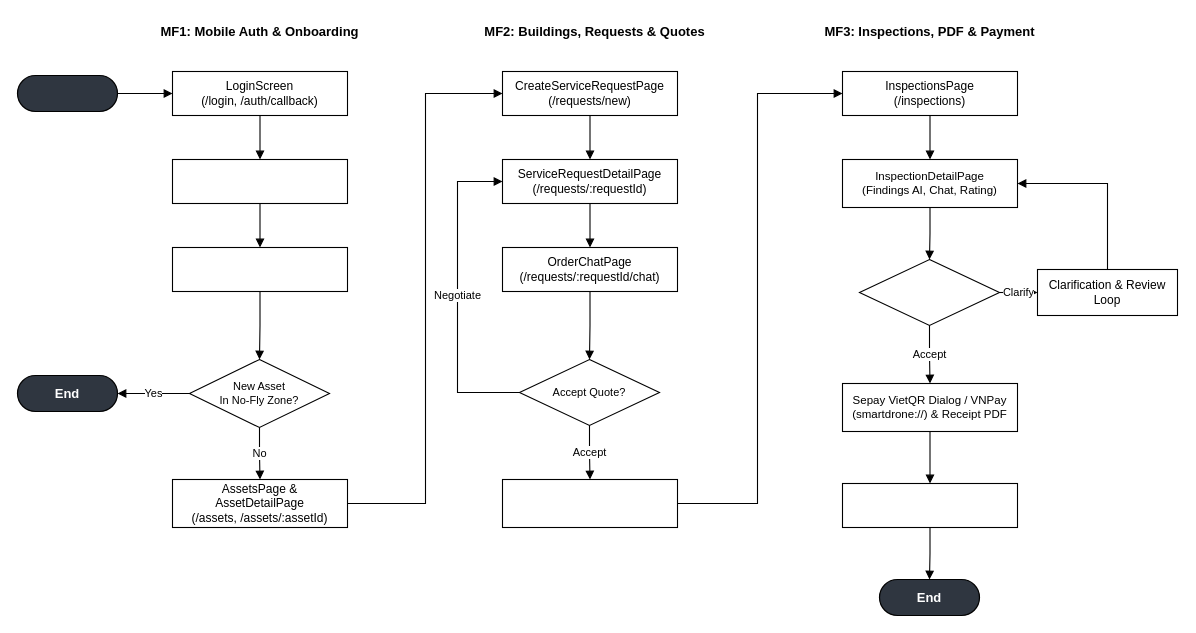
This 1196x633 diagram has some shape labels left out. Each missing label, with the box of its shape:
Accept Report?: (858, 258, 1000, 326)
CustomerDashboardPage (/home, /notifications): (172, 246, 348, 292)
Occurrence & Status Tracking (/requests/:requestId): (502, 478, 678, 528)
ProfilePage (/profile): (842, 482, 1018, 528)
RegisterPage & ForgotPwd (/register, /forgot-password): (172, 158, 348, 204)
Start: (16, 74, 118, 112)
